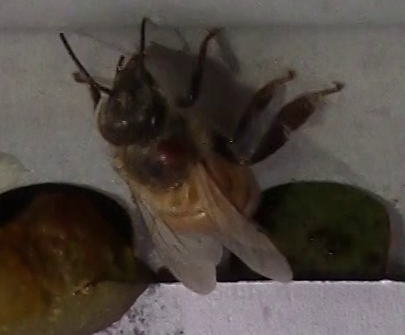Varroa destructor: (152, 136, 190, 168)
